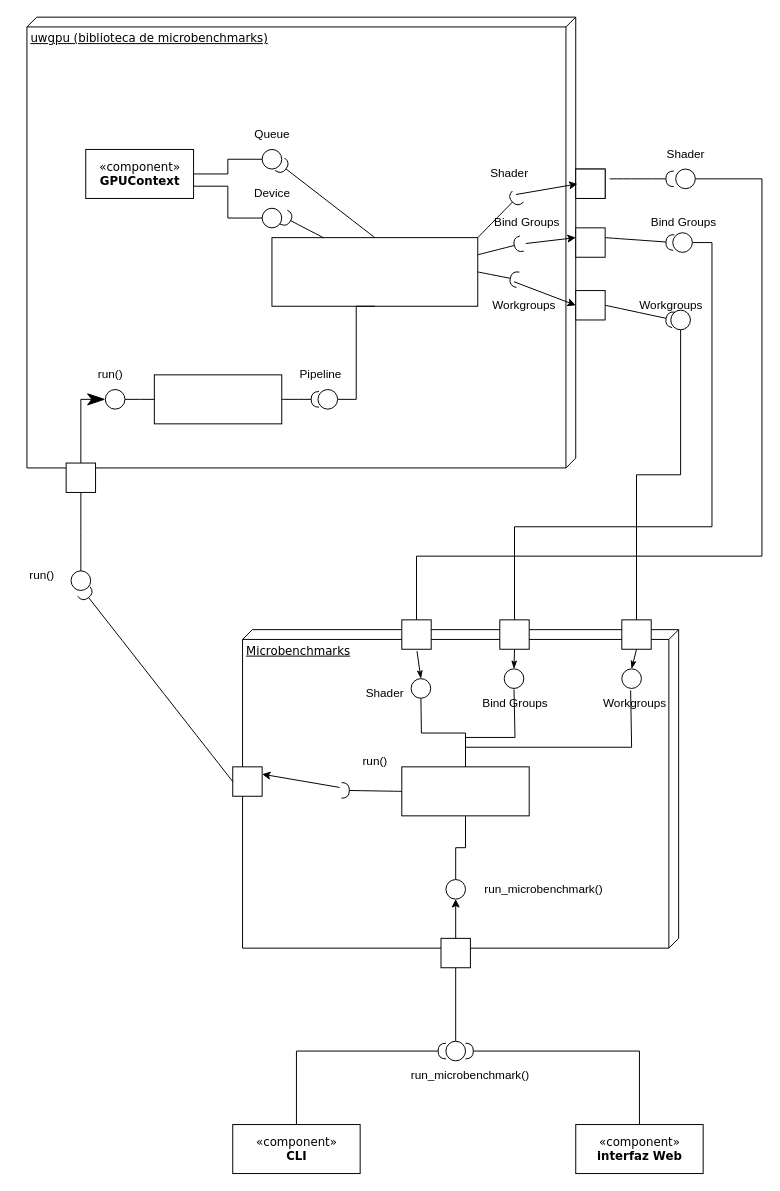
The diagram is 780 pixels wide and 1191 high, and some of its shapes have lost their labels. Each missing label, with the centre of its shape:
"«component» Benchmark" belongs at point (217, 399).
"«component» BenchmarkComputePipeline" belongs at point (374, 271).
"«component» microbenchmark" belongs at point (465, 791).
